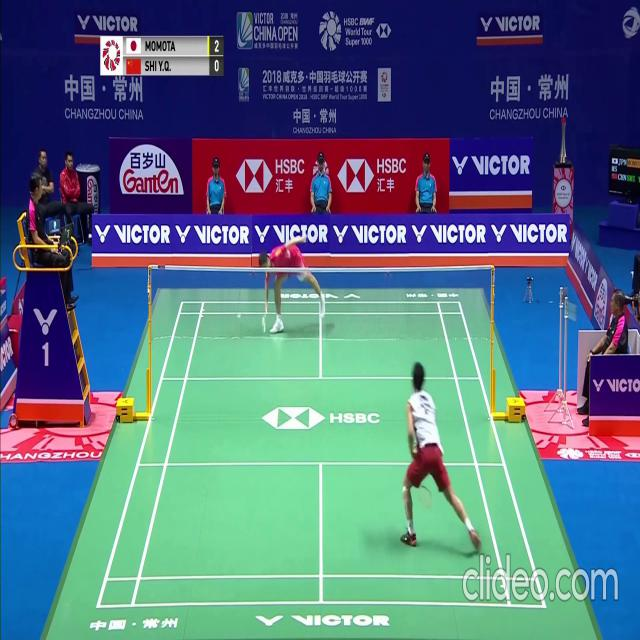Shuttlecock: (236, 312, 241, 319)
